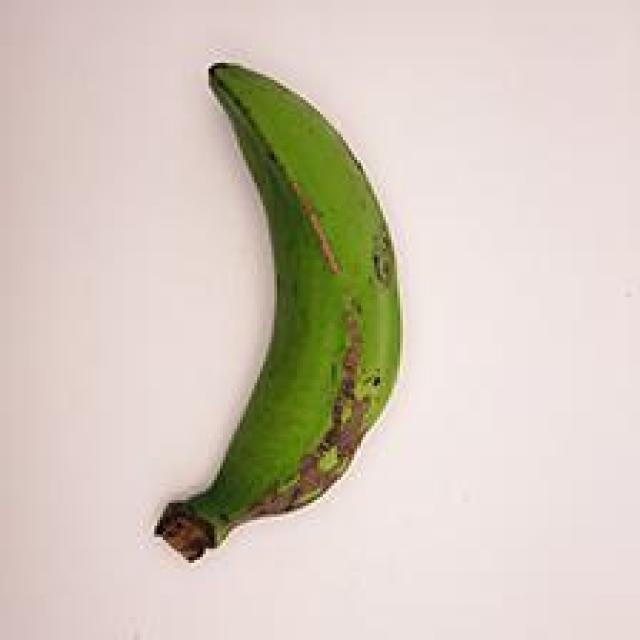Raw: (122, 37, 440, 570)
